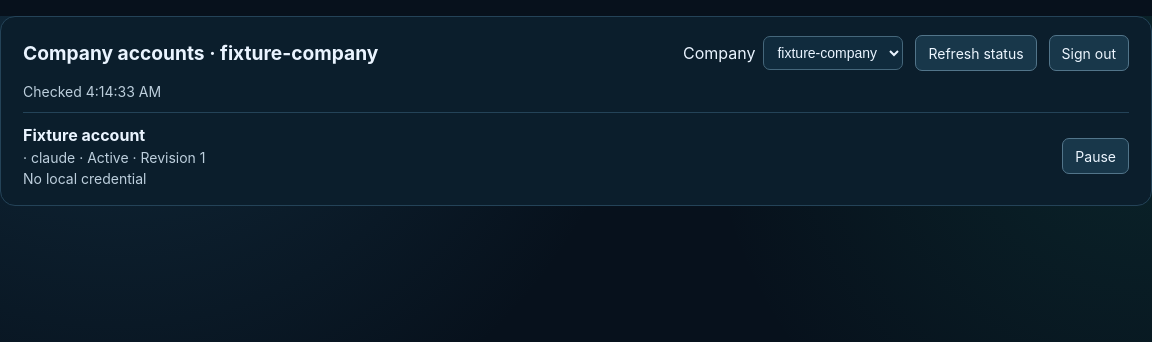
Test: company accounts › reports stale_revision and reloads the current status
The image size is (1152, 342).
Step 1. Click the button "Pause" → [1096, 156], box top-left (1062, 138), bottom-right (1129, 174)
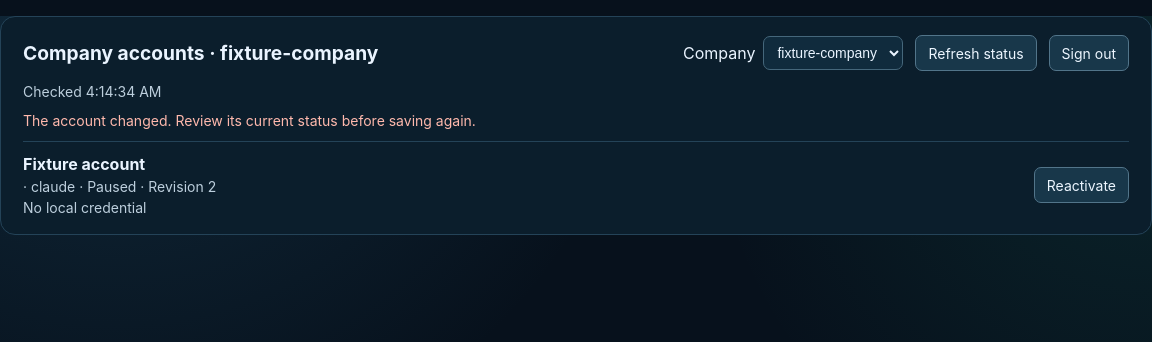
Expected: the button "Reactivate" is enabled, top-left (1034, 167), bottom-right (1129, 203)
Expected: the message "The account changed. Review its current status before saving again." is shown, top-left (23, 112), bottom-right (476, 129)
Expected: the text "Paused" is shown, top-left (87, 178), bottom-right (136, 195)
